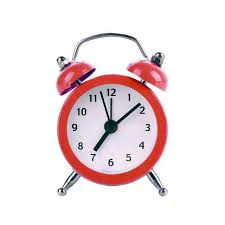alarm_clock: (46, 30, 168, 197), (53, 30, 168, 197)
